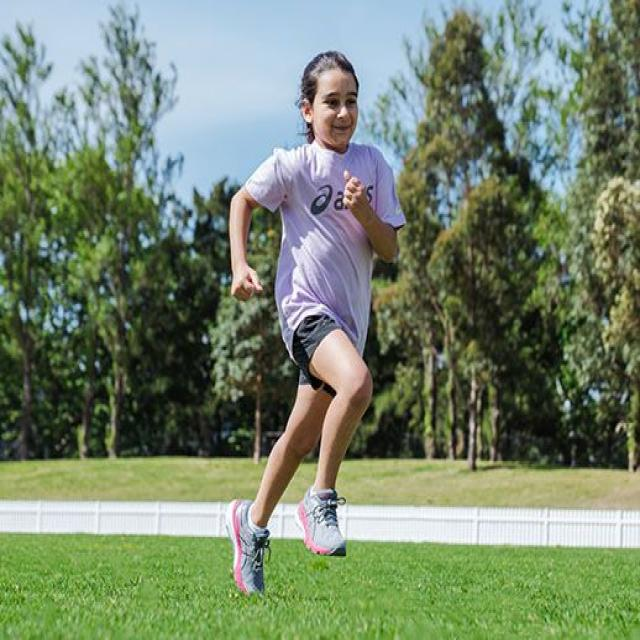Person: (225, 52, 406, 594)
